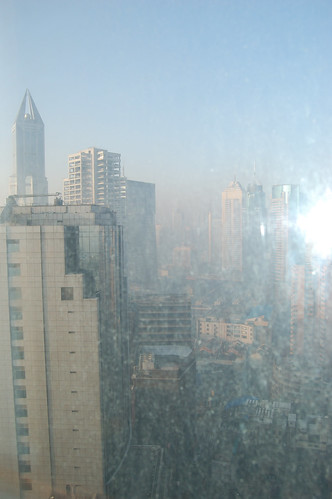building: (1, 208, 127, 499), (65, 146, 164, 299), (4, 93, 46, 204)
sky: (1, 1, 318, 170)
